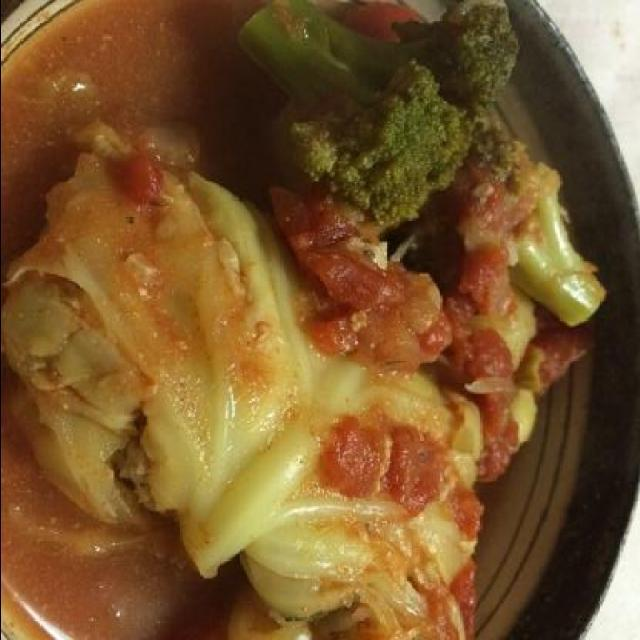Broccoli: (232, 0, 524, 231), (441, 128, 610, 330)
